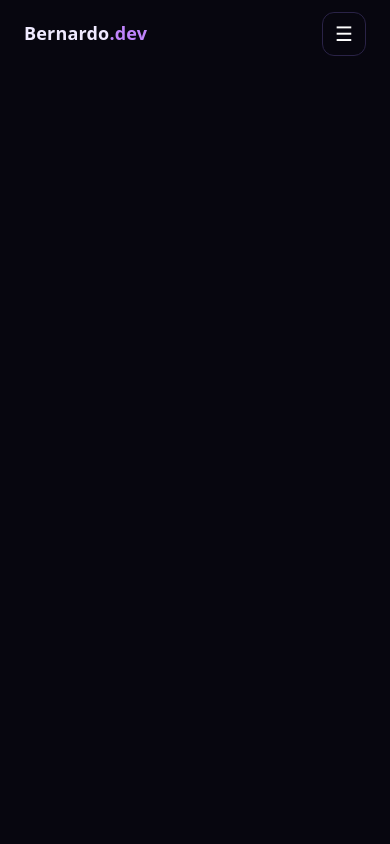
Test case: burger_toggles_menu_and_aria_expanded
The width and height of the screenshot is (390, 844).
Click the button named "menu" at (344, 34), box [322, 12, 366, 56]
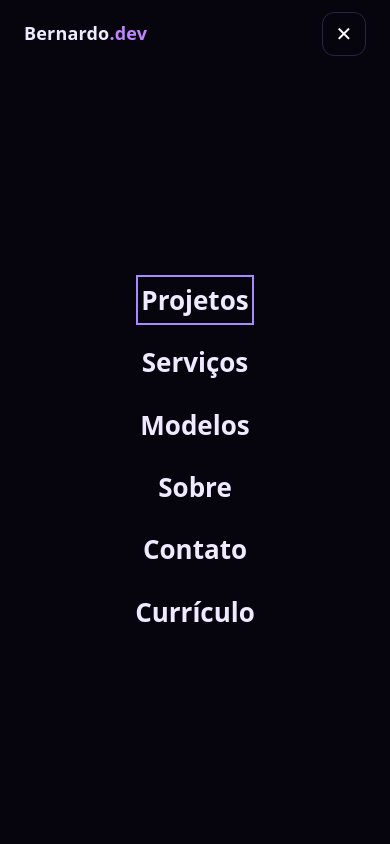
Result: the button named "menu" is expanded
Click the button named "menu" at (344, 34), box [322, 12, 366, 56]
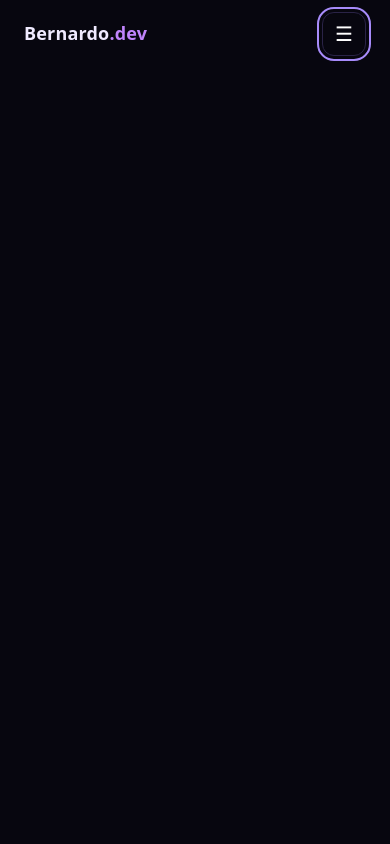
Result: the button named "menu" is collapsed at [322, 12, 366, 56]
